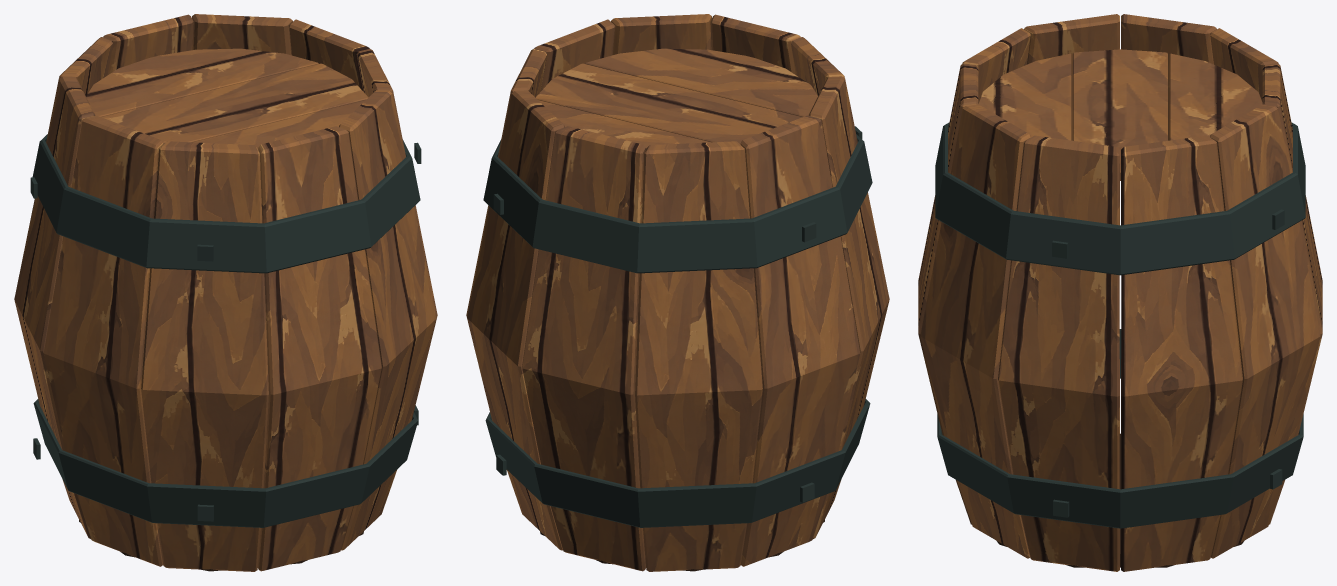
The model's file is aether_barrel_shape_bk.fbx.
3 views of the same model, side by side, from view 1: azimuth 30°, elevation 25°; view 2: azimuth 150°, elevation 25°; view 3: azimuth 270°, elevation 25° (orthographic).
Parts seen in each view (by area): view 1: aether_barrel_shape_bk; view 2: aether_barrel_shape_bk; view 3: aether_barrel_shape_bk.
Boxes of the visible parts, bbox=[...] form: aether_barrel_shape_bk: bbox=[14, 14, 437, 571]; aether_barrel_shape_bk: bbox=[466, 14, 889, 571]; aether_barrel_shape_bk: bbox=[918, 14, 1322, 571].
Size of the model in its own units: 95.83 by 106 by 91.61.
Materials: 2 (1 with a texture image).
